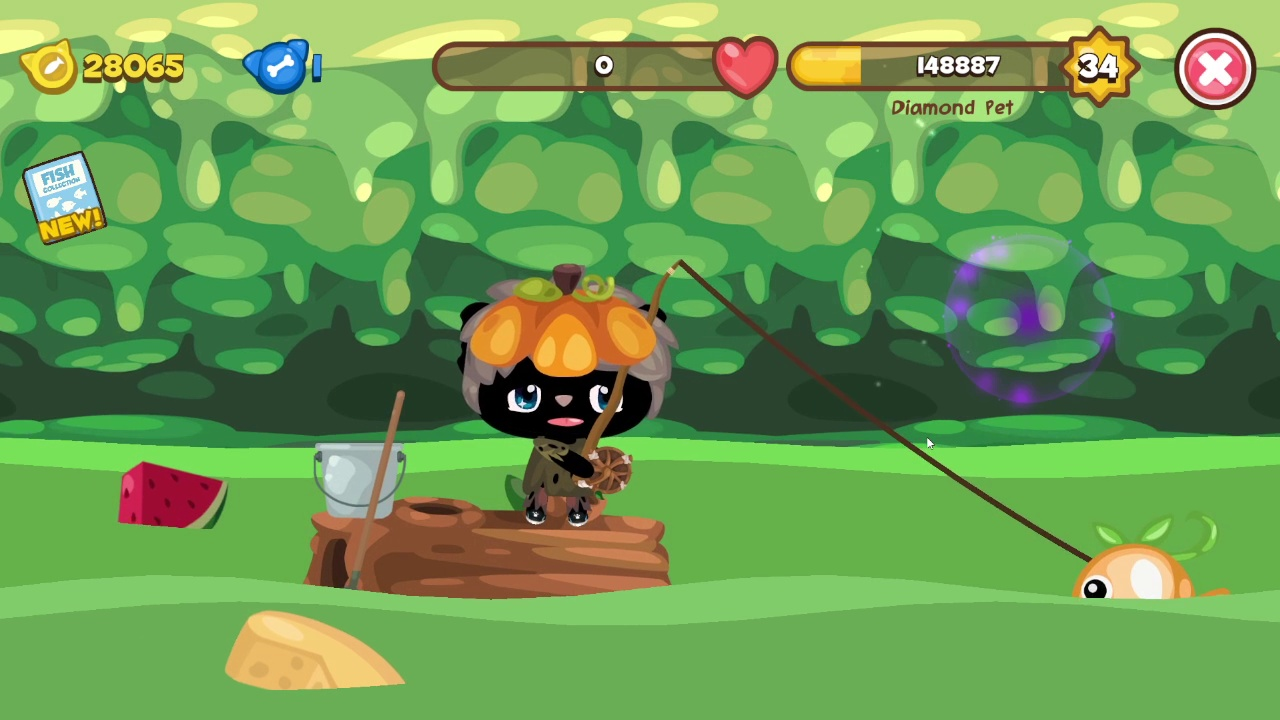point: (945, 234, 1115, 409)
